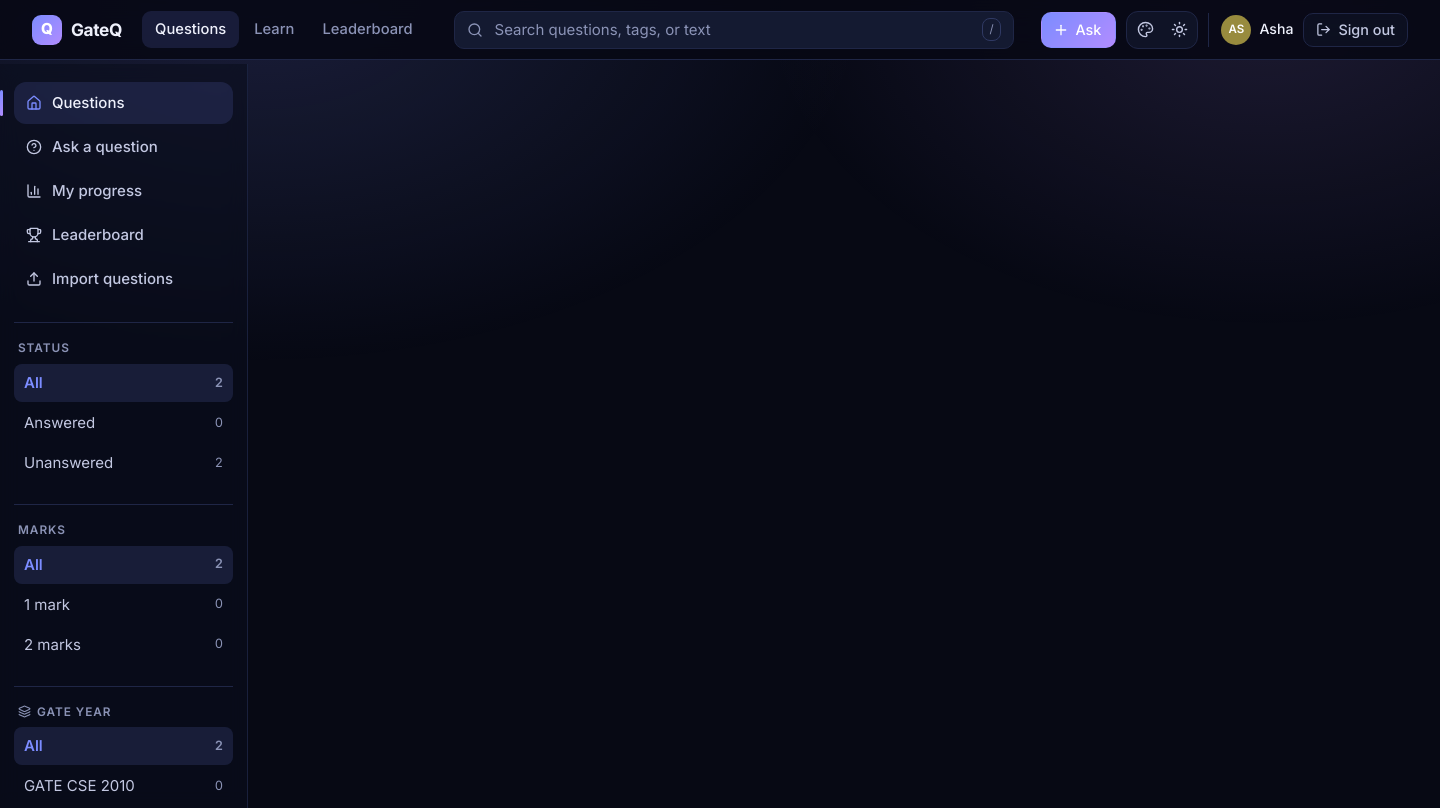
Test case: GateQ › lists saved community questions and filters them by search
Type "huffman" into the search field named "Search questions" at point(732, 30), box [492,16,972,42]
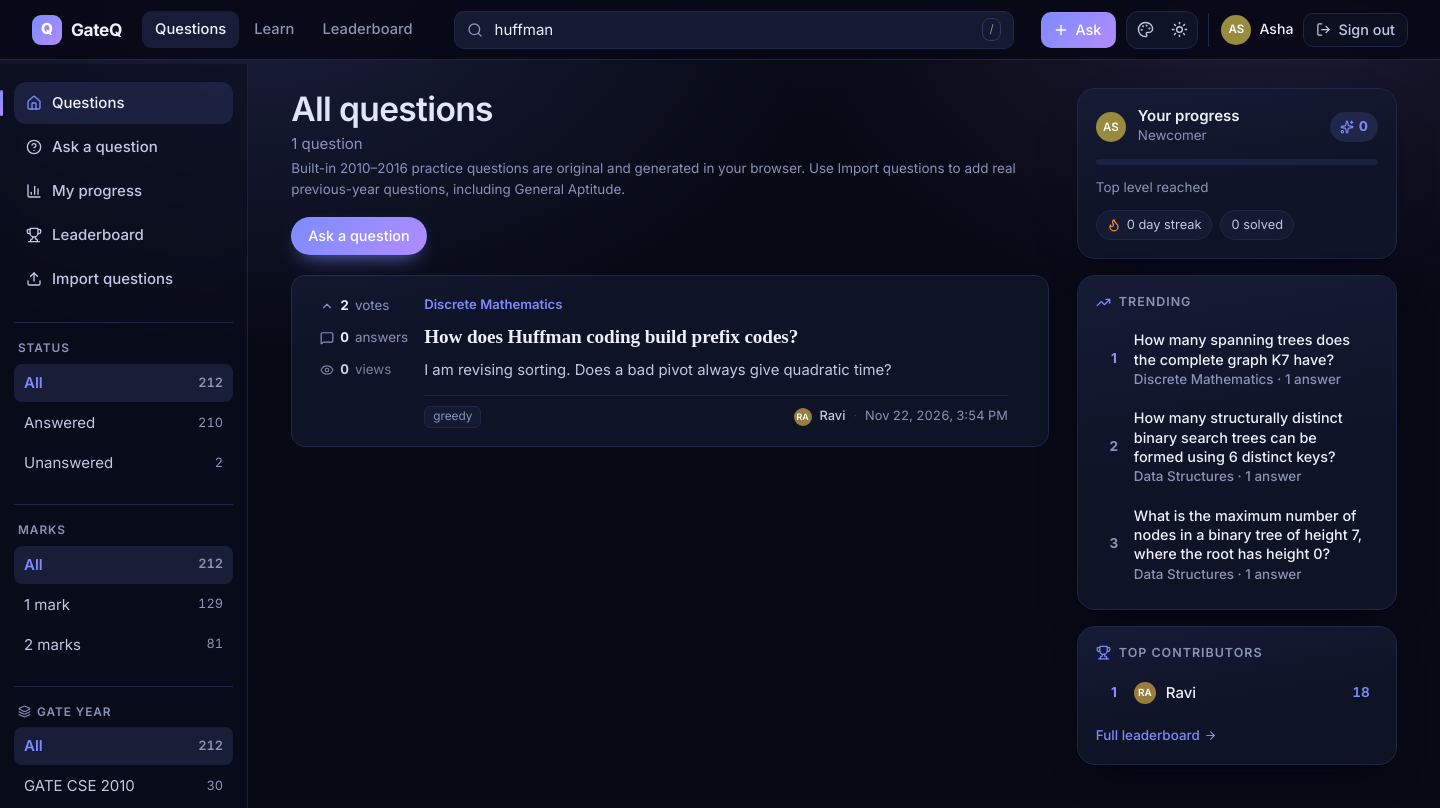
Now the link "How does Huffman coding build prefix codes?" is shown, box [424,326,798,347]
